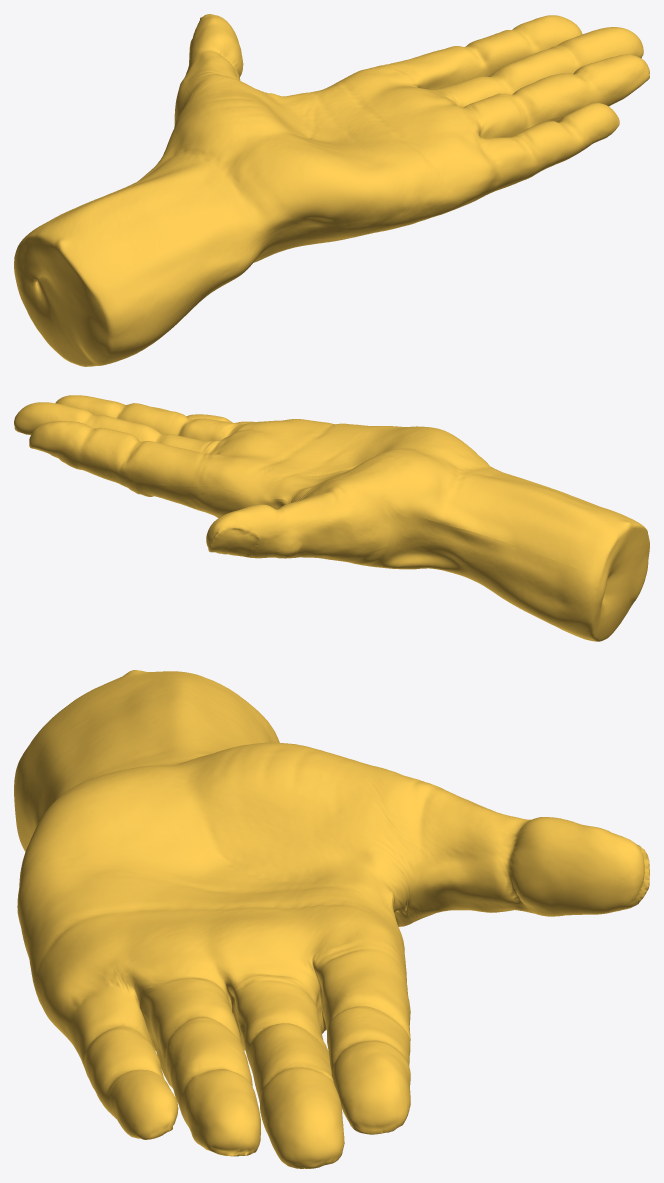
Rendered from HandRainbowHandy.gltf.
3 renders of one model, top to bottom at view 1: azimuth 30°, elevation 25°; view 2: azimuth 150°, elevation 25°; view 3: azimuth 270°, elevation 25°, orthographic. The views are drawn at different scales.
Visible parts, largest first — view 1: Group11720; view 2: Group11720; view 3: Group11720.
Boxes of the visible parts, x1,y1,x2,y2 form: Group11720: [14, 14, 649, 366]; Group11720: [14, 395, 649, 641]; Group11720: [14, 670, 649, 1168].
Size of the model in its own units: 0.3315 by 0.0884 by 0.1786.
